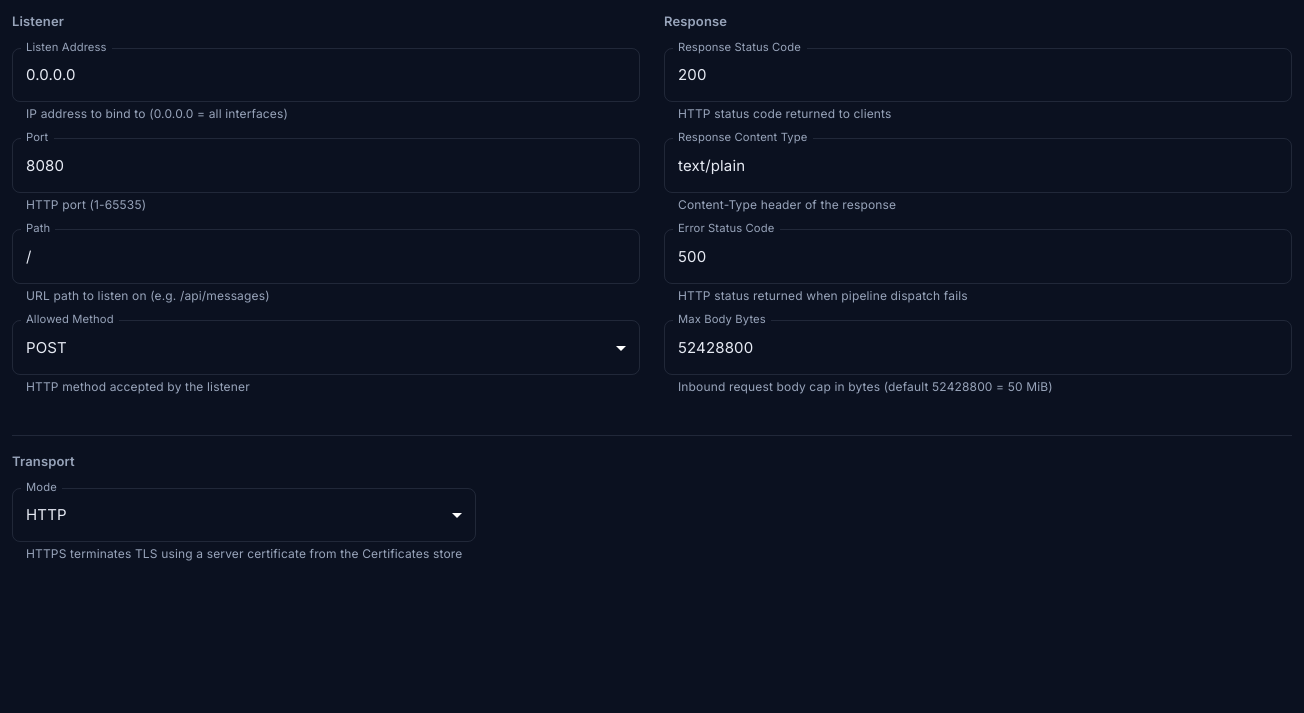
Test case: HttpSourceForm — HTTPS mode › shows a required server-cert picker with an error when empty in HTTPS mode
Press the mouse on the dropdown named "Mode" at (46, 515), box [26, 505, 67, 524]
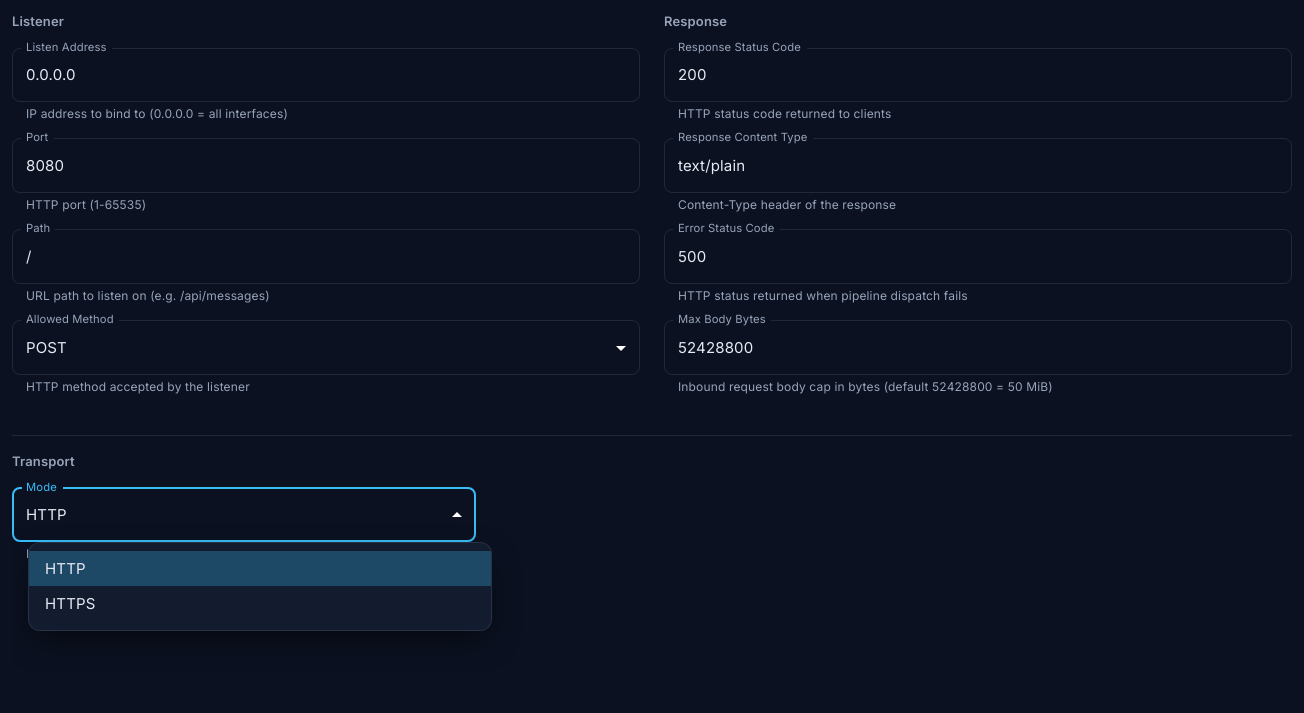
Click the option "HTTPS". click: (70, 604)
box: [45, 594, 96, 613]
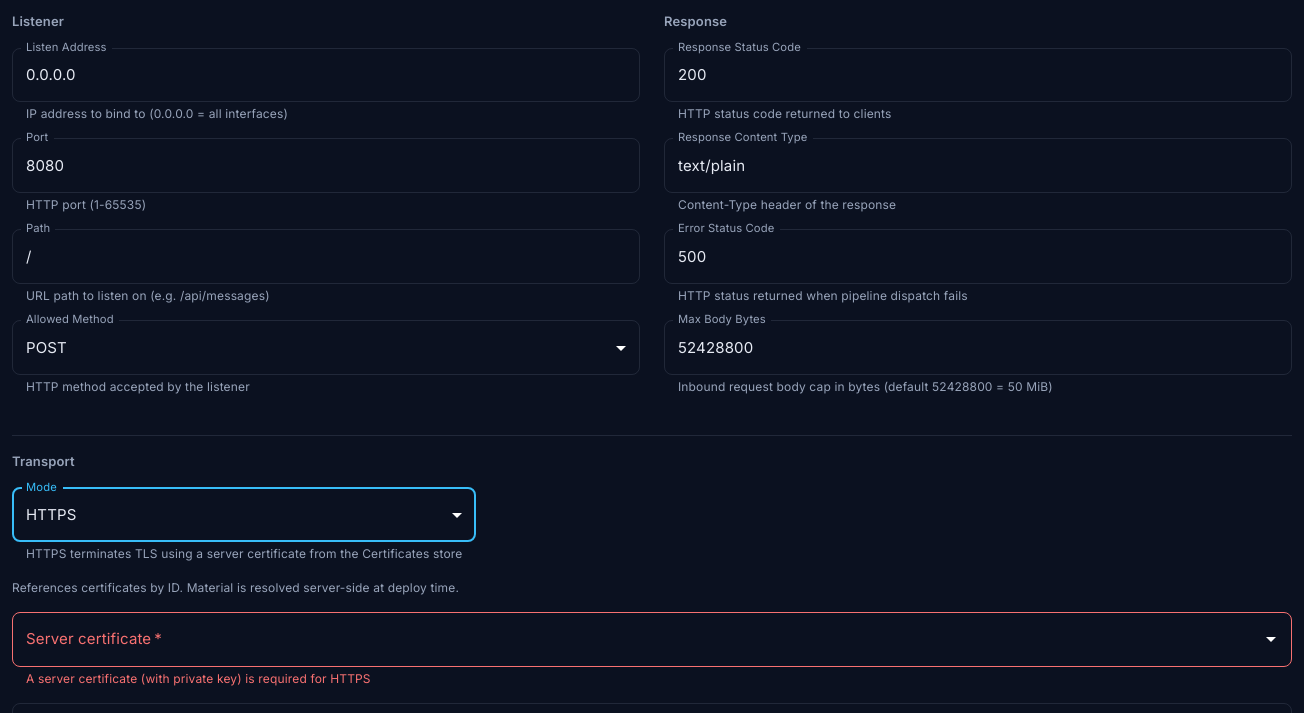
Now the dropdown named "Mode" reads "HTTPS", box [26, 505, 76, 524]
Now the dropdown labelled "Server certificate *" is shown, box [21, 621, 1253, 658]
